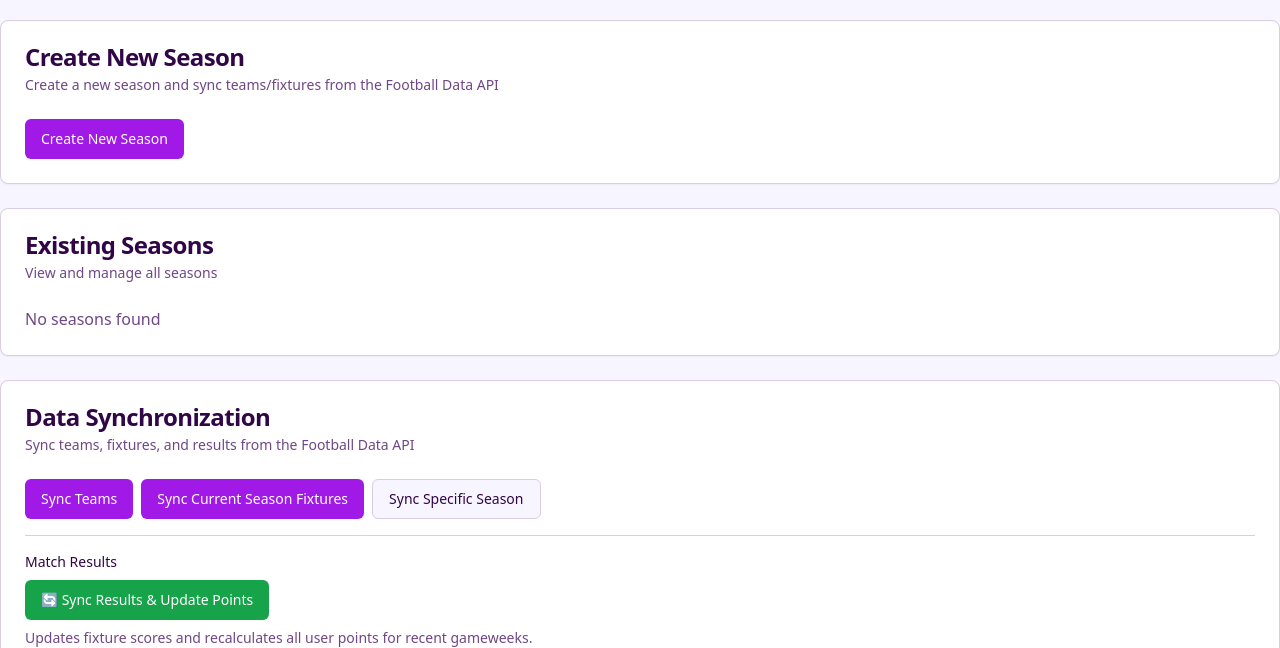
SeasonManagementPage - Create New Season › Season Creation Flow › should show helpful information about next steps
What coordinates should you click on to do the following:
click the button "Create New Season"
I would click on:
 (104, 139)
Its box is [25,119,184,159].
(page scrolled)
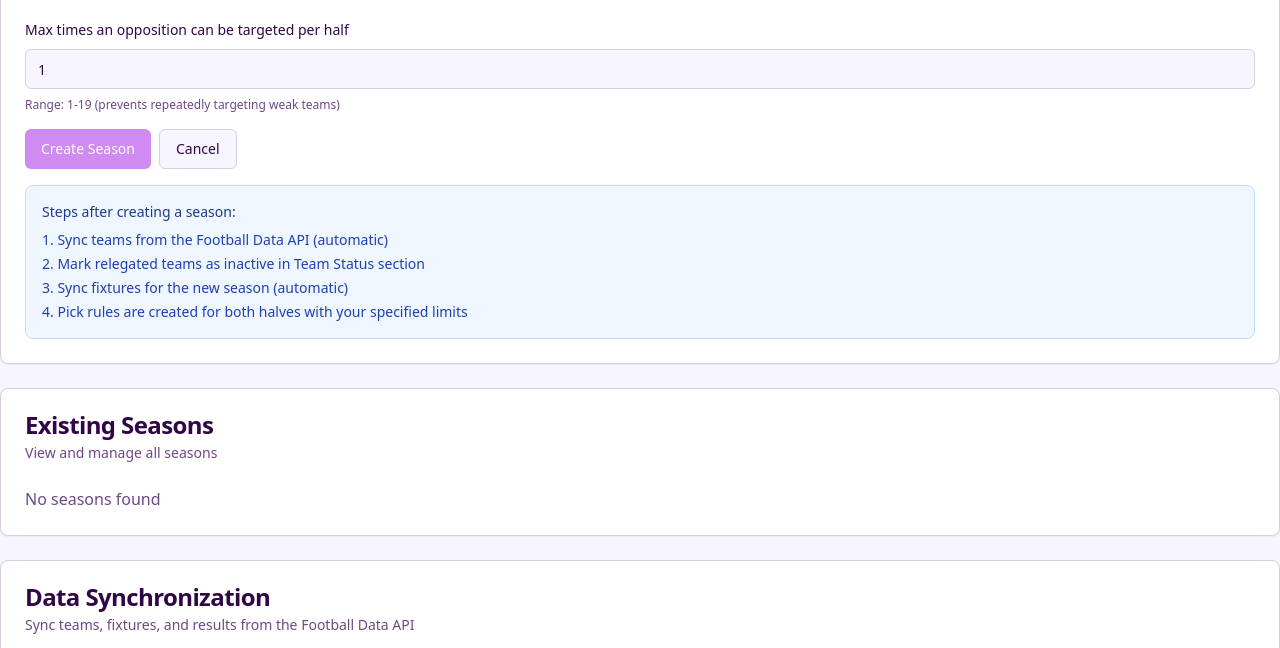
Result: the text "Steps after creating a season:" is shown at [42,202,236,221]
Result: the list item "Sync teams from the Football Data API (automatic)" is shown at [57,230,388,249]
Result: the list item "Mark relegated teams as inactive in Team Status section" is shown at [57,254,425,273]
